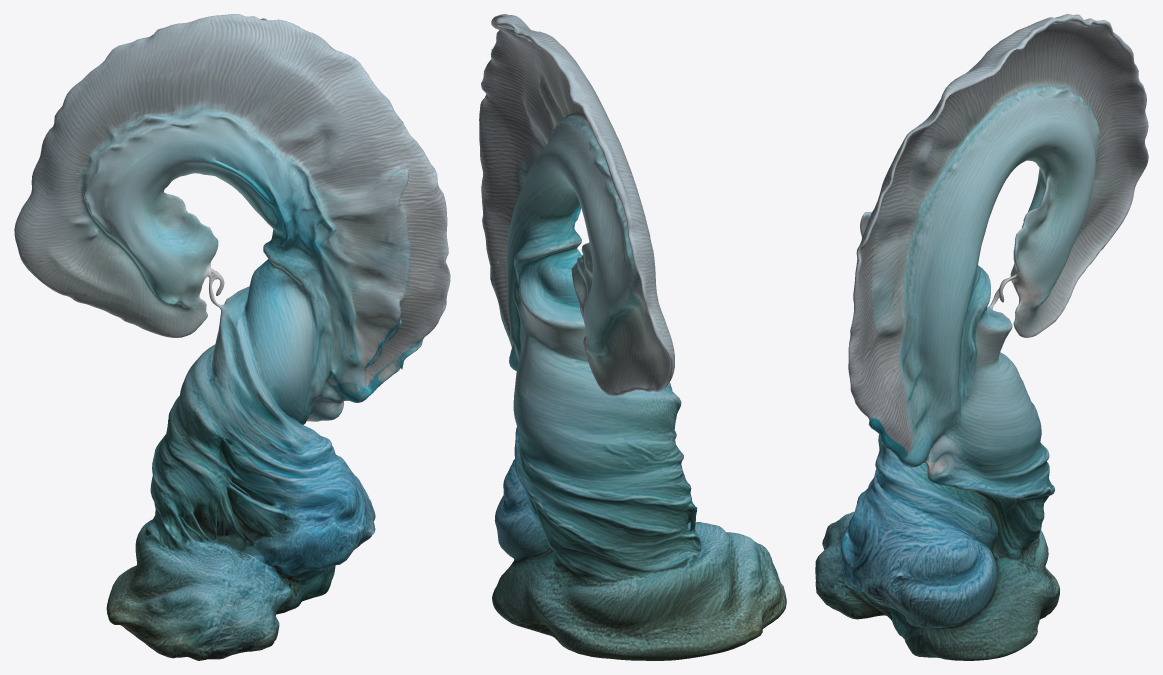
The model's file is category-4.glb.
3 views of the same model, side by side, from view 1: azimuth 30°, elevation 25°; view 2: azimuth 150°, elevation 25°; view 3: azimuth 270°, elevation 25° (orthographic). The views are drawn at different scales.
Visible parts, largest first — view 1: tripo_node_2ba1bd86; view 2: tripo_node_2ba1bd86; view 3: tripo_node_2ba1bd86.
Boxes of the visible parts, x1,y1,x2,y2 form: tripo_node_2ba1bd86: (14, 14, 450, 660); tripo_node_2ba1bd86: (479, 14, 786, 660); tripo_node_2ba1bd86: (815, 14, 1148, 660).
Size of the model in its own units: 0.5593 by 0.9742 by 0.4788.
1 material, 1 textured.
